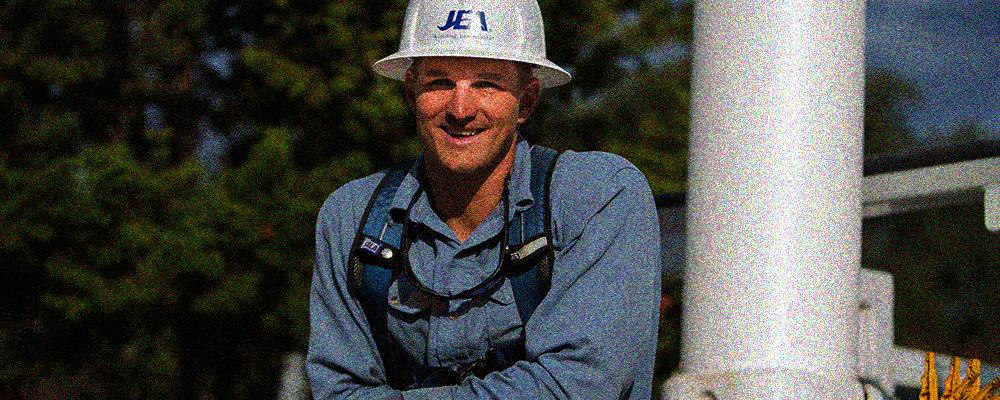helmet: (375, 1, 573, 181)
